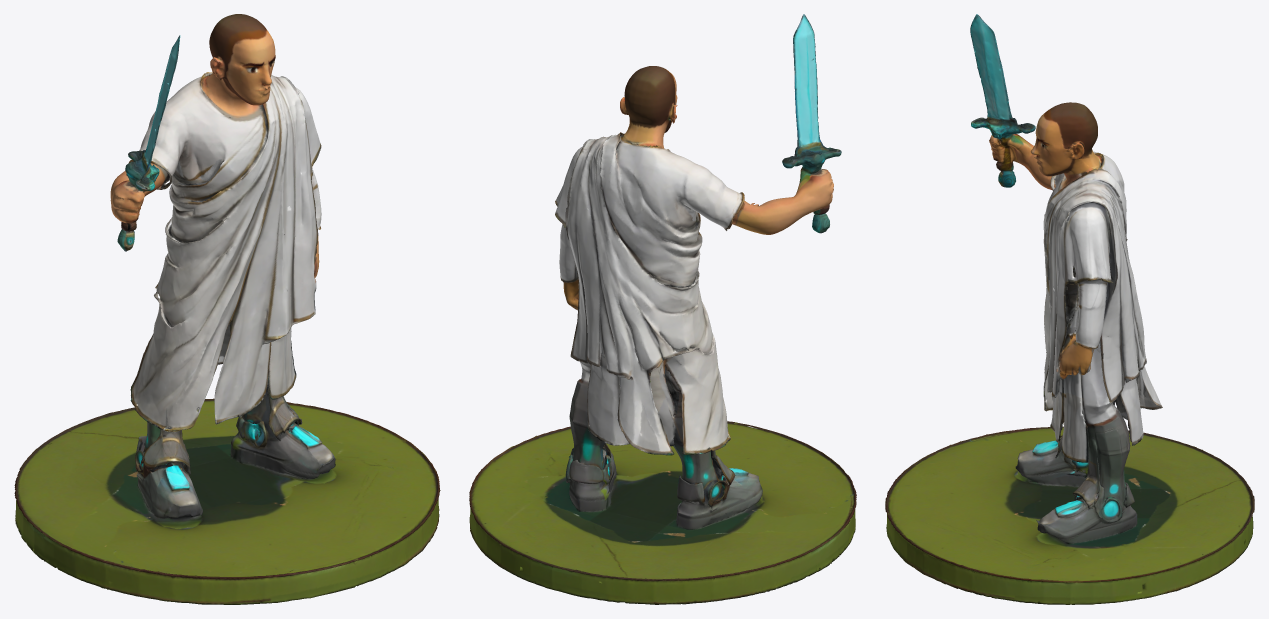
Rendered from Future_Gladiator.glb.
3 renders of one model, left to right at view 1: azimuth 30°, elevation 25°; view 2: azimuth 150°, elevation 25°; view 3: azimuth 270°, elevation 25°, orthographic. The views are drawn at different scales.
Bounding box in the file's own units: 1.42 × 2 × 1.42.
Materials: 1 (1 with a texture image).
